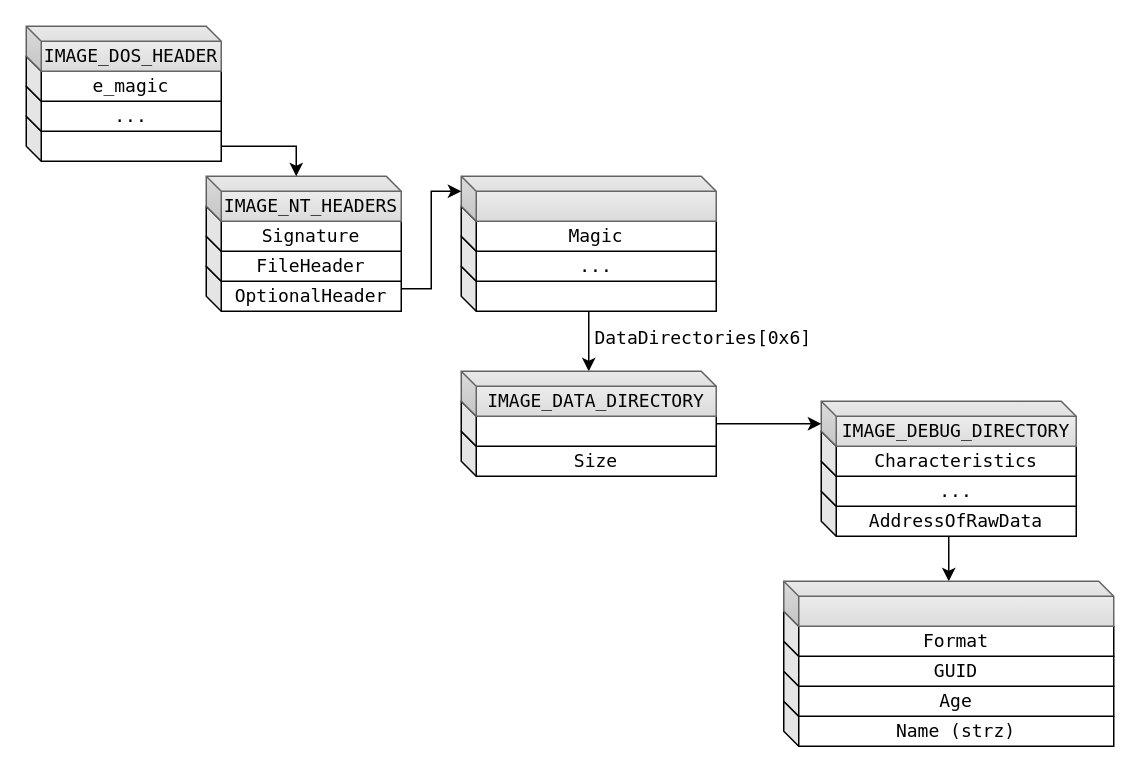
Some shapes in this 1140 by 773 pixel diagram are drawn without their labels. The shapes that lost their labels are listed below. From the top down, each one's centre as x and y in pixels, then its label:
At [123,138]: "e_lfanew".
At [588,198]: "IMAGE_OPTIONAL_HEADER".
At [588,288]: "DataDirectories[16]".
At [588,423]: "VirtualAddress".
At [948,603]: "IMAGE_DEBUG_DIRECTORY_RAW".
